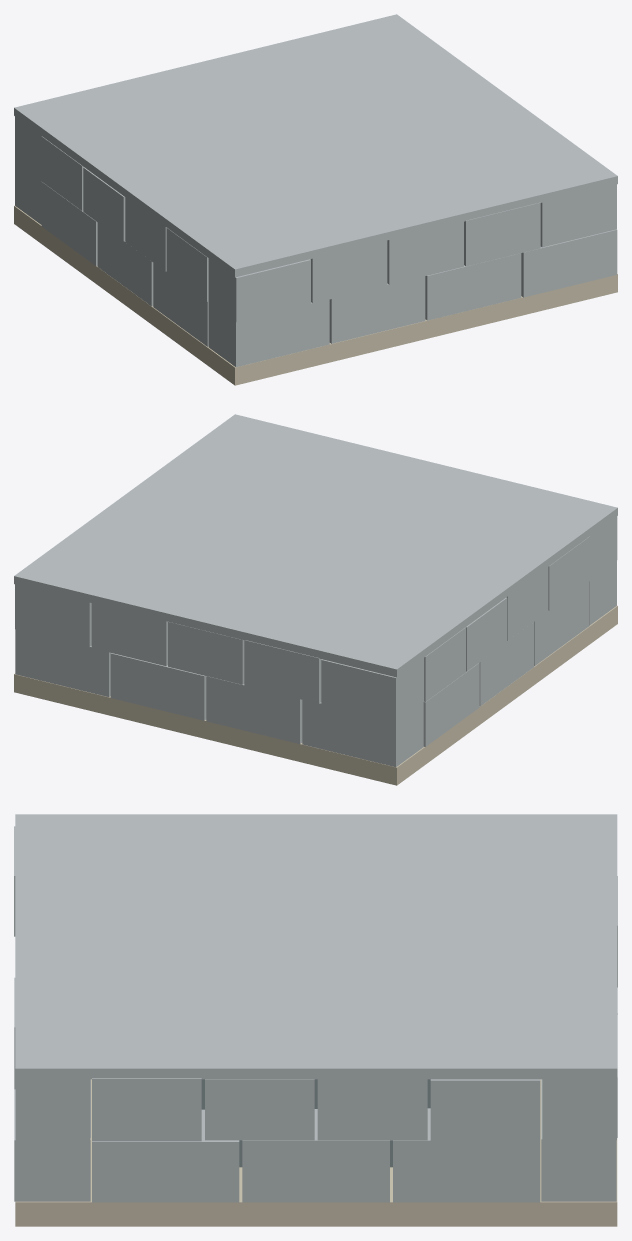
Rendered from sunken-city-and-underwater-ruins-temple-platform-modul-60af0b49__36951.glb.
3 views of the same model, one above another, from view 1: azimuth 30°, elevation 25°; view 2: azimuth 150°, elevation 25°; view 3: azimuth 270°, elevation 25° (orthographic). The views are drawn at different scales.
Visible parts, largest first — view 1: temple-platform-module; view 2: temple-platform-module; view 3: temple-platform-module.
Boxes of the visible parts, <box> form: temple-platform-module: <box>14,14,617,385</box>; temple-platform-module: <box>14,414,617,785</box>; temple-platform-module: <box>14,814,617,1226</box>.
Bounding box in the file's own units: 4.01 × 1.16 × 4.01.
